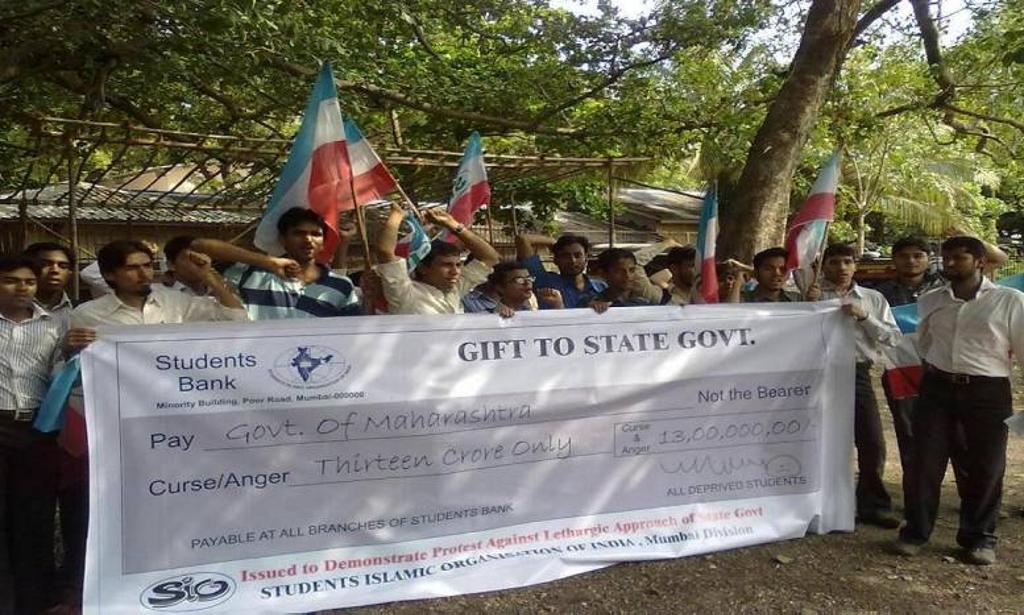face: (2, 270, 38, 308), (292, 224, 324, 262), (123, 252, 153, 292), (38, 252, 69, 290), (433, 254, 460, 291), (179, 249, 209, 282), (943, 249, 974, 280), (897, 247, 927, 276), (762, 258, 789, 288), (559, 243, 585, 274), (827, 256, 856, 282), (614, 257, 635, 288), (509, 269, 532, 297), (681, 257, 700, 283), (719, 274, 732, 294)
